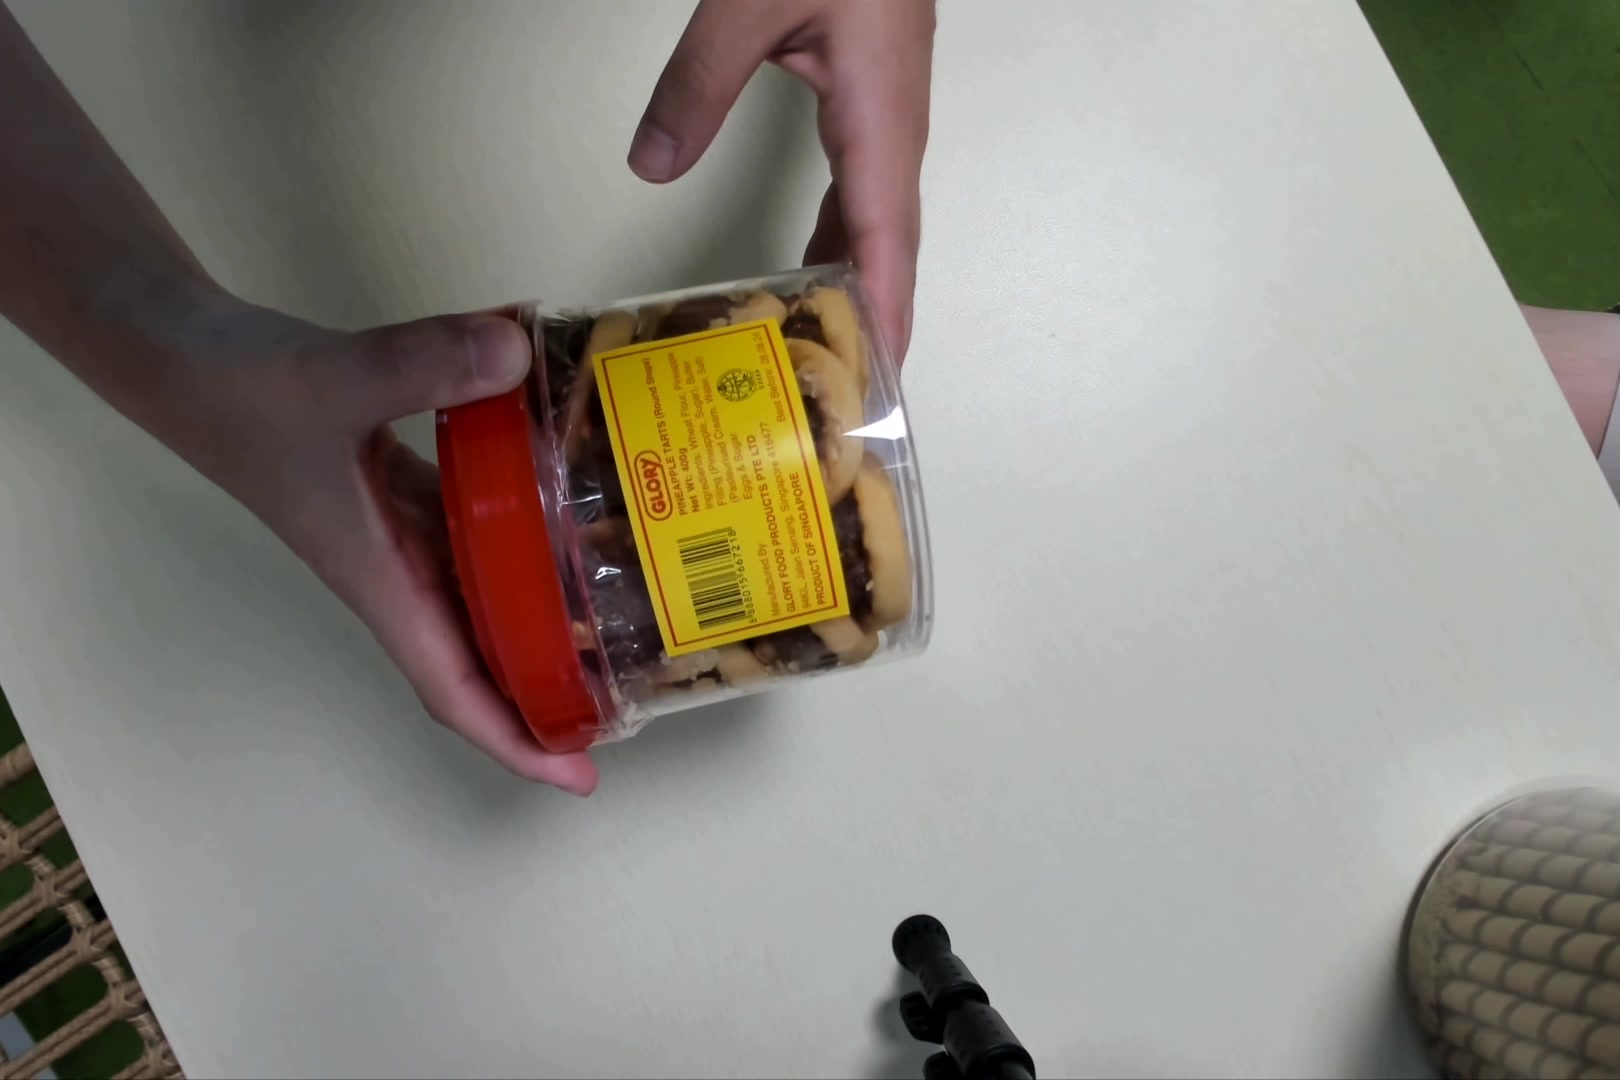BiscuitsCrackersCookies_400-499g_Halal_NonHealthy: (432, 272, 941, 755)
